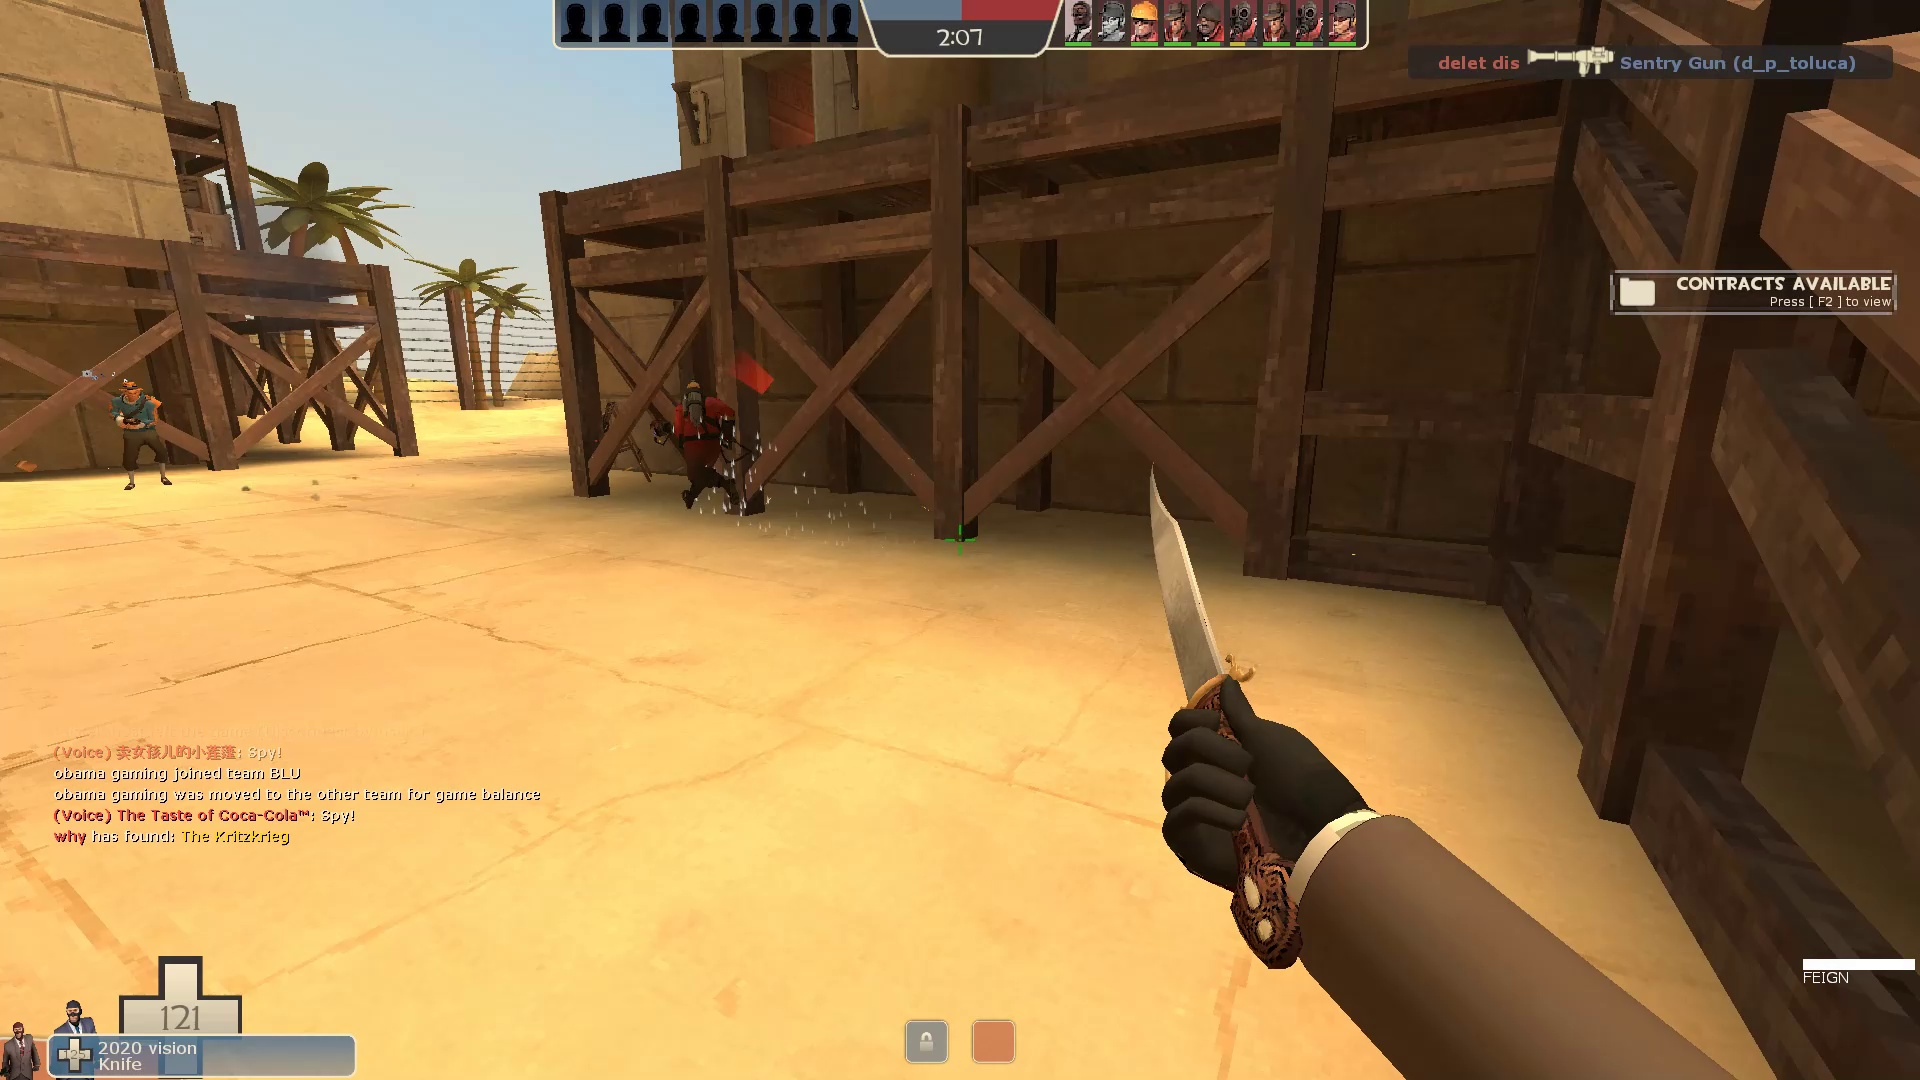blu_scout: (91, 373, 179, 493)
red_pyro: (649, 371, 758, 514)
